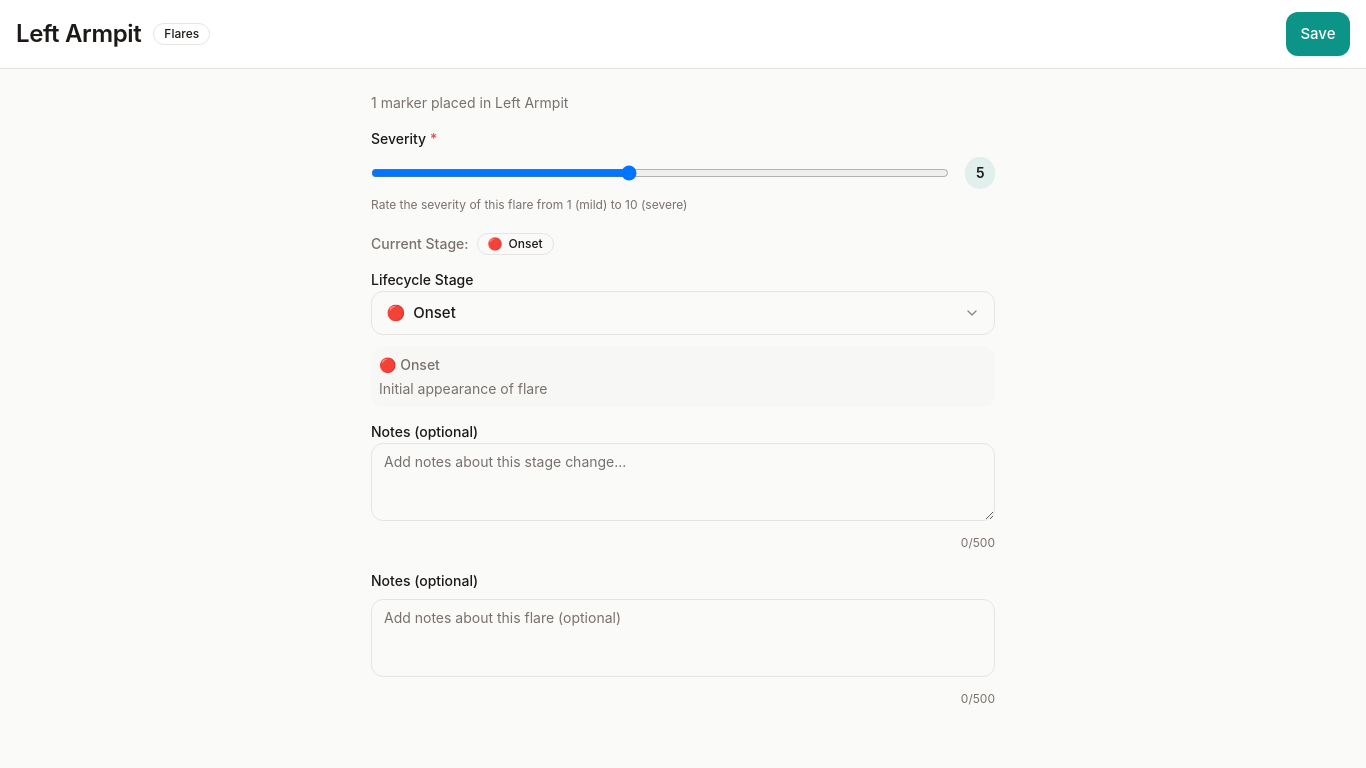
Test case: FlareDetailsPage › AC 9.2.4 - LifecycleStageSelector integration › should allow user to change lifecycle stage
# Click the lifecycle stage select button
What coordinates should you click on to do the following:
click the button with aria-label "Select lifecycle stage"
I would click on:
 (434, 313)
Its box is left=371, top=291, right=995, bottom=335.
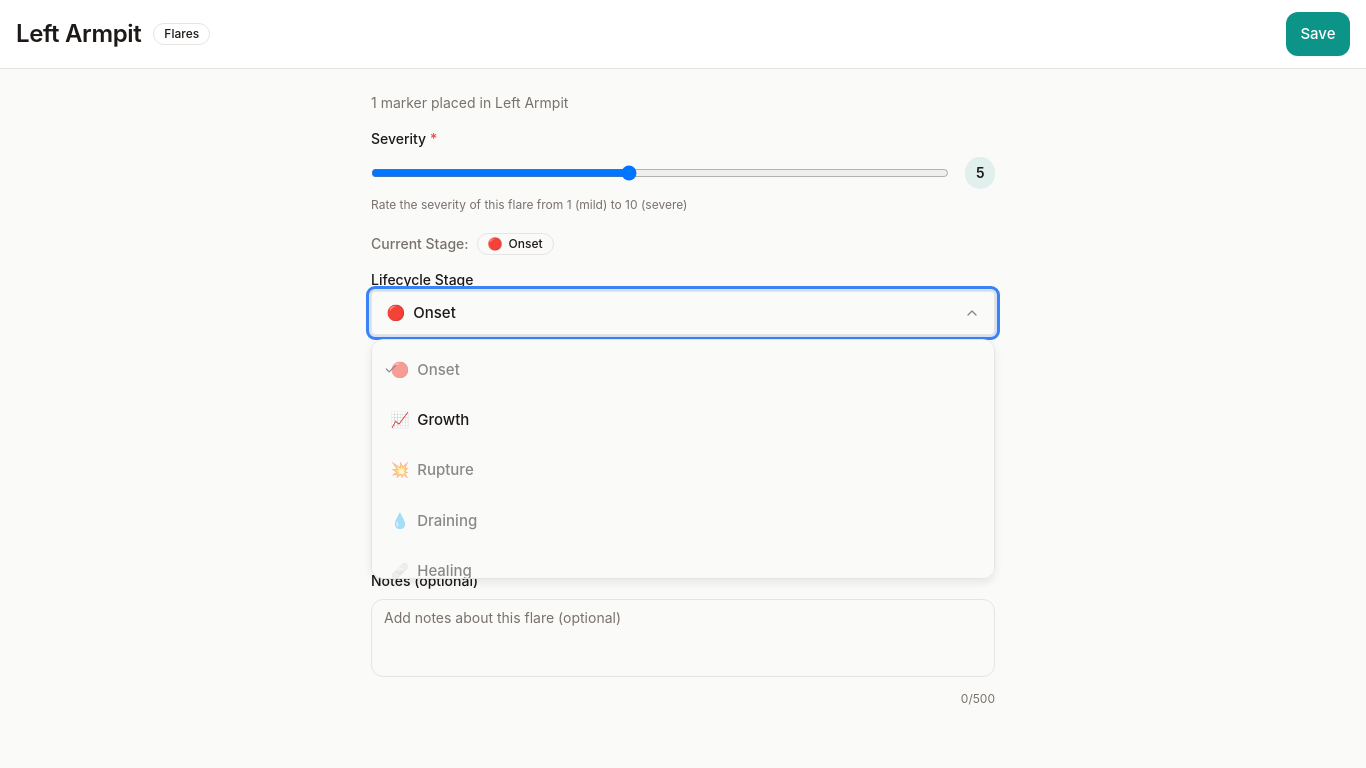
# Click the "Growth" option
What coordinates should you click on to do the following:
click the option "📈 Growth"
I would click on:
 (443, 419)
Its box is left=376, top=394, right=990, bottom=445.
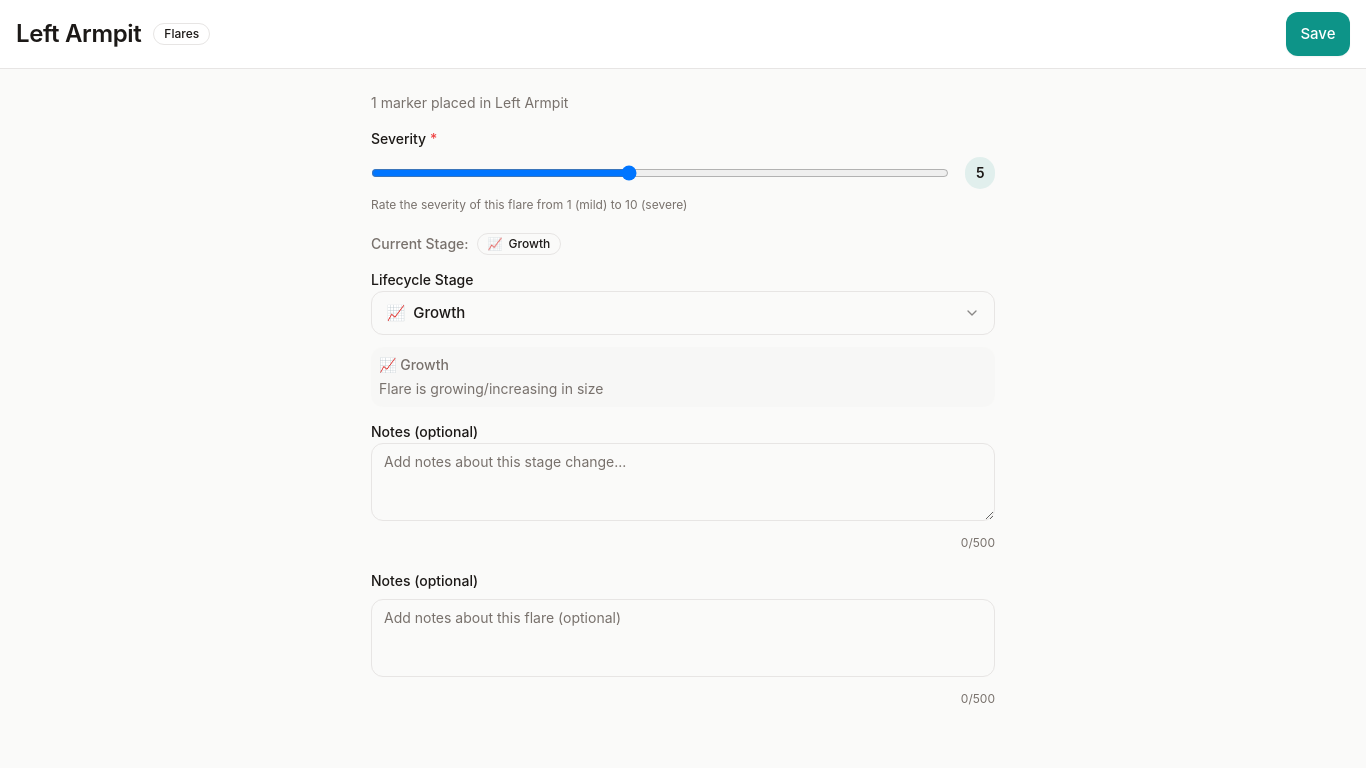
Result: the text "Flare is growing/increasing in size" is shown at left=379, top=380, right=603, bottom=397
